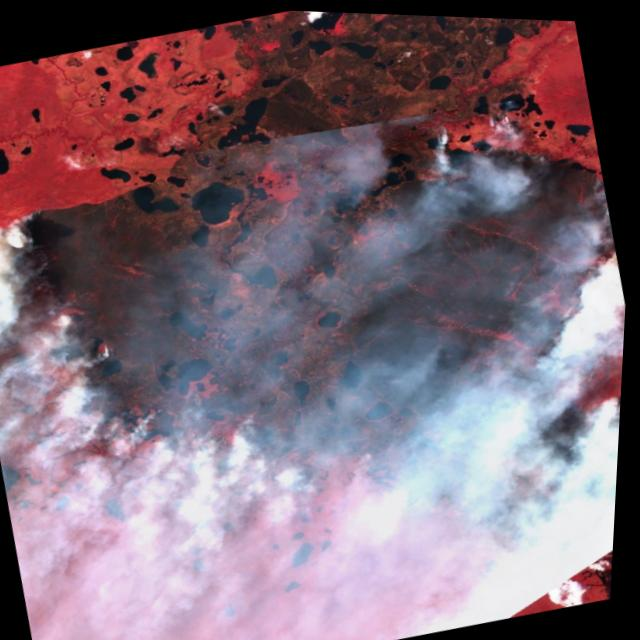fire: (0, 151, 349, 566), (508, 238, 631, 423), (411, 86, 559, 186)
